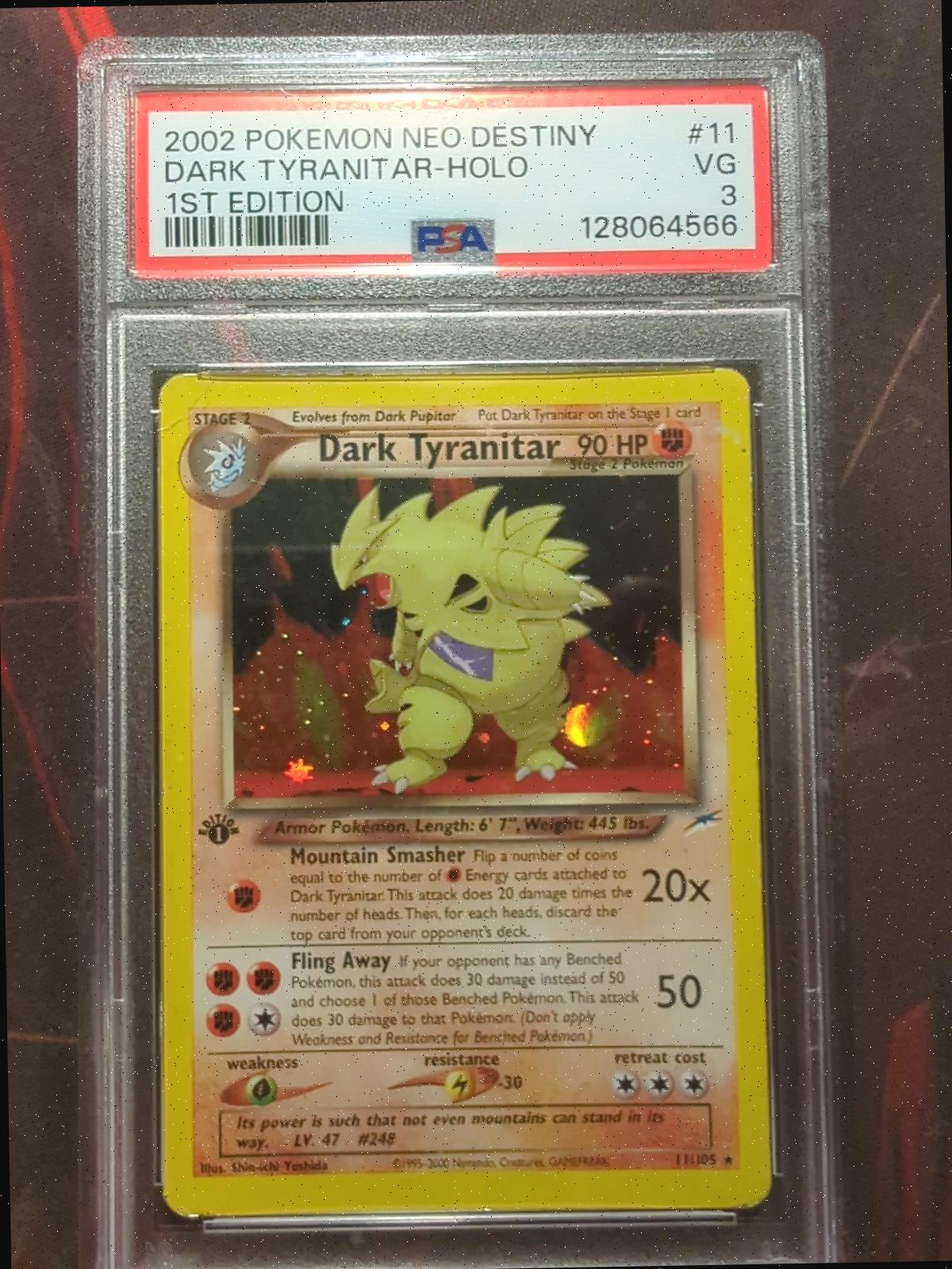card-2UtV: (157, 367, 773, 1218)
